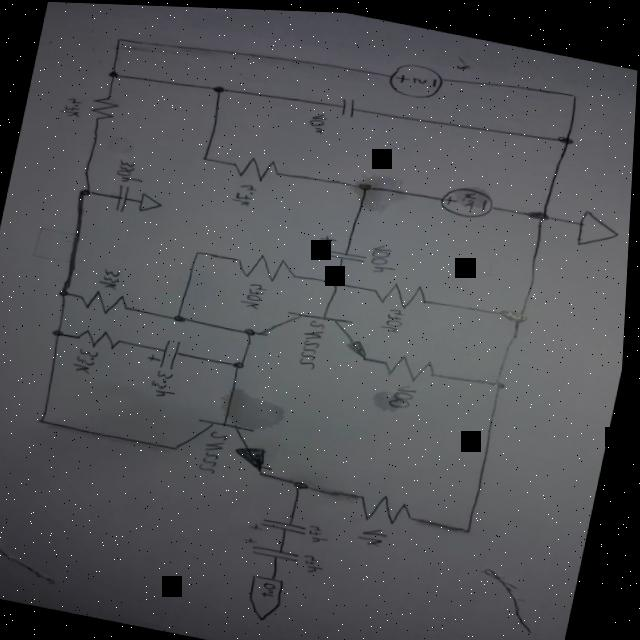capacitor: (244, 533, 308, 562), (313, 230, 371, 262), (251, 509, 314, 538), (146, 333, 188, 370), (112, 180, 133, 212), (336, 92, 358, 116)
ground: (573, 203, 625, 248), (136, 190, 165, 215)
junction: (497, 302, 534, 321), (524, 202, 554, 219), (171, 309, 193, 324), (328, 273, 349, 287), (492, 373, 511, 387), (355, 178, 376, 190), (77, 185, 96, 198), (231, 356, 249, 369), (51, 325, 69, 338), (462, 519, 479, 532), (103, 67, 121, 79), (556, 129, 574, 141), (296, 477, 314, 488), (243, 324, 261, 334), (191, 245, 207, 256), (57, 286, 73, 297), (210, 82, 227, 92), (198, 151, 213, 161), (37, 416, 51, 424), (112, 35, 124, 42), (567, 87, 579, 94)
resistor: (353, 485, 425, 526), (230, 246, 305, 284), (368, 273, 433, 308), (377, 346, 441, 381), (77, 284, 134, 317), (228, 150, 281, 182), (77, 324, 128, 351), (85, 91, 122, 125)
source: (383, 55, 447, 99)
terminal: (247, 570, 293, 622)
text: (297, 314, 329, 369), (200, 426, 234, 476), (367, 238, 401, 273), (387, 377, 422, 409), (239, 275, 271, 310), (150, 367, 184, 399), (114, 156, 150, 186), (72, 345, 106, 376), (380, 301, 410, 334), (359, 520, 395, 547), (230, 177, 260, 206), (55, 93, 85, 120), (98, 265, 126, 289), (304, 549, 331, 572), (309, 520, 336, 543), (306, 108, 328, 133), (460, 186, 479, 210), (264, 578, 280, 598), (409, 72, 428, 83)
transistor: (170, 409, 285, 477), (259, 300, 381, 359)
